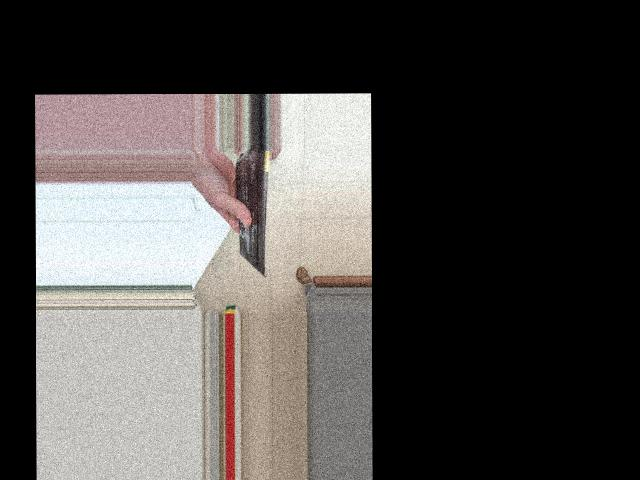chocolate: (231, 147, 274, 265)
